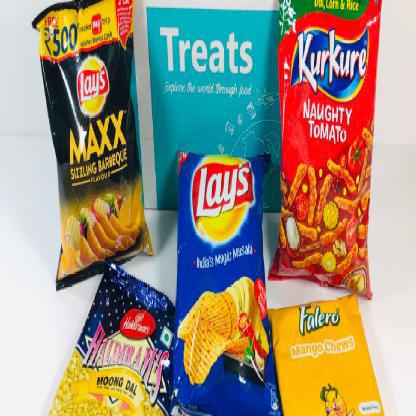indian_magic_masala: (178, 148, 273, 410)
maxx_sizzling_barbeque: (35, 13, 151, 253)
